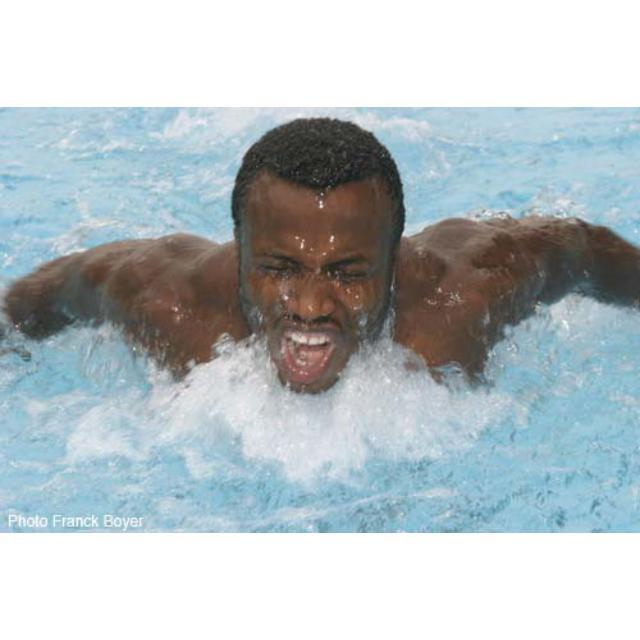human: (7, 114, 639, 404)
